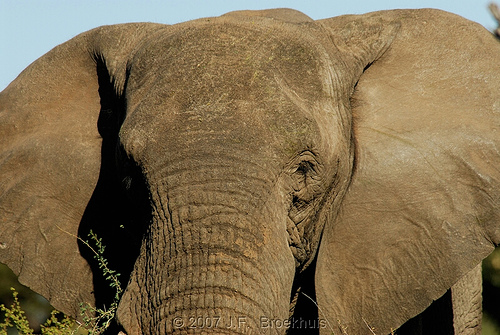elephant: (3, 3, 495, 335)
